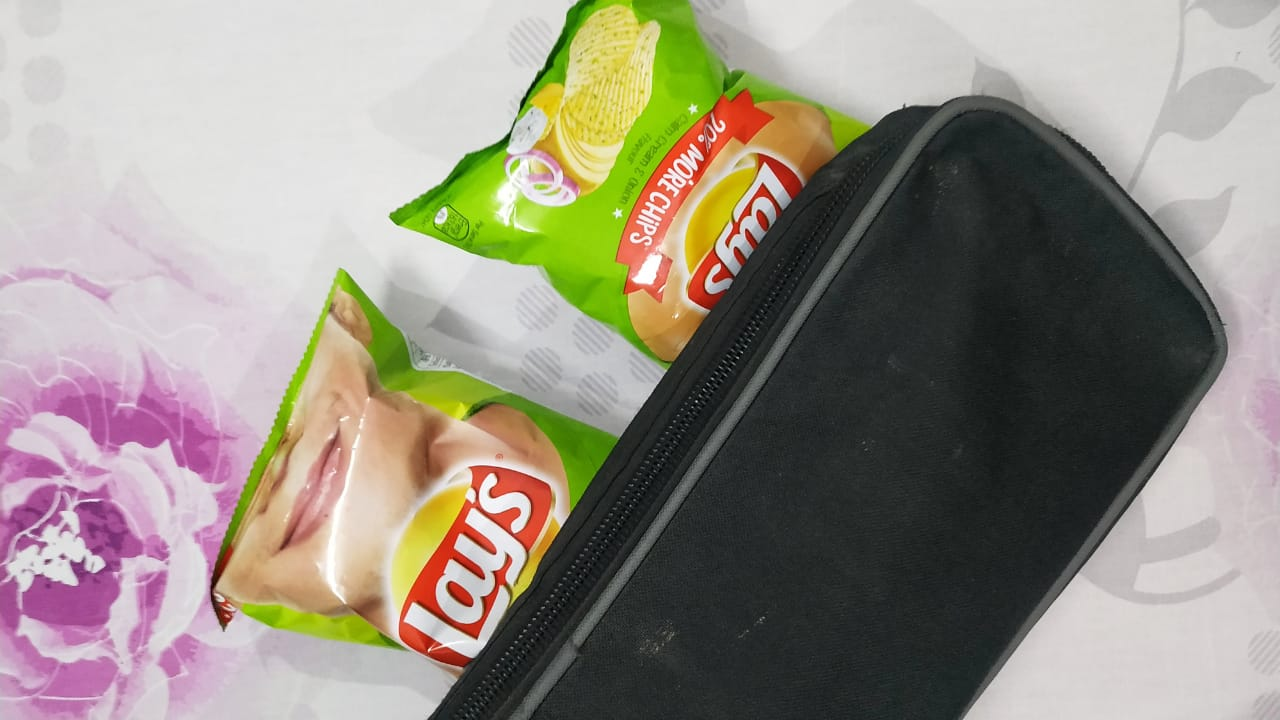lays chips: (130, 261, 638, 684), (361, 7, 913, 366)
